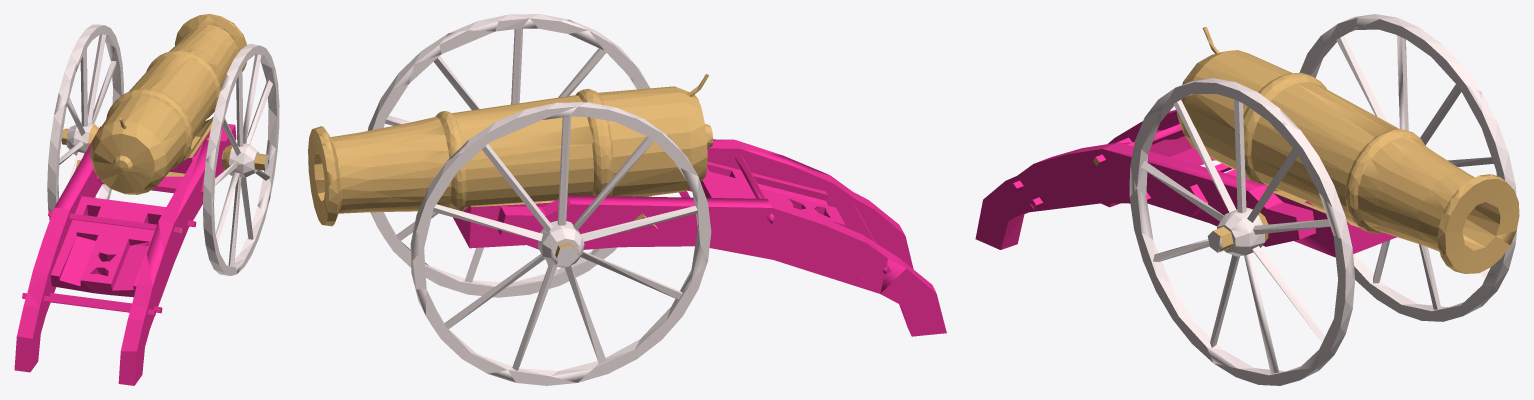
File: cannon.glb
3 views of the same model, side by side, from view 1: azimuth 30°, elevation 25°; view 2: azimuth 150°, elevation 25°; view 3: azimuth 270°, elevation 25° (orthographic). The views are drawn at different scales.
Parts seen in each view (by area): view 1: cannon; view 2: cannon; view 3: cannon.
Boxes of the visible parts, x1,y1,x2,y2 form: cannon: (14,14,279,385); cannon: (308,14,946,385); cannon: (975,14,1519,385).
Bounding box in the file's own units: 6.27 × 3.51 × 6.
